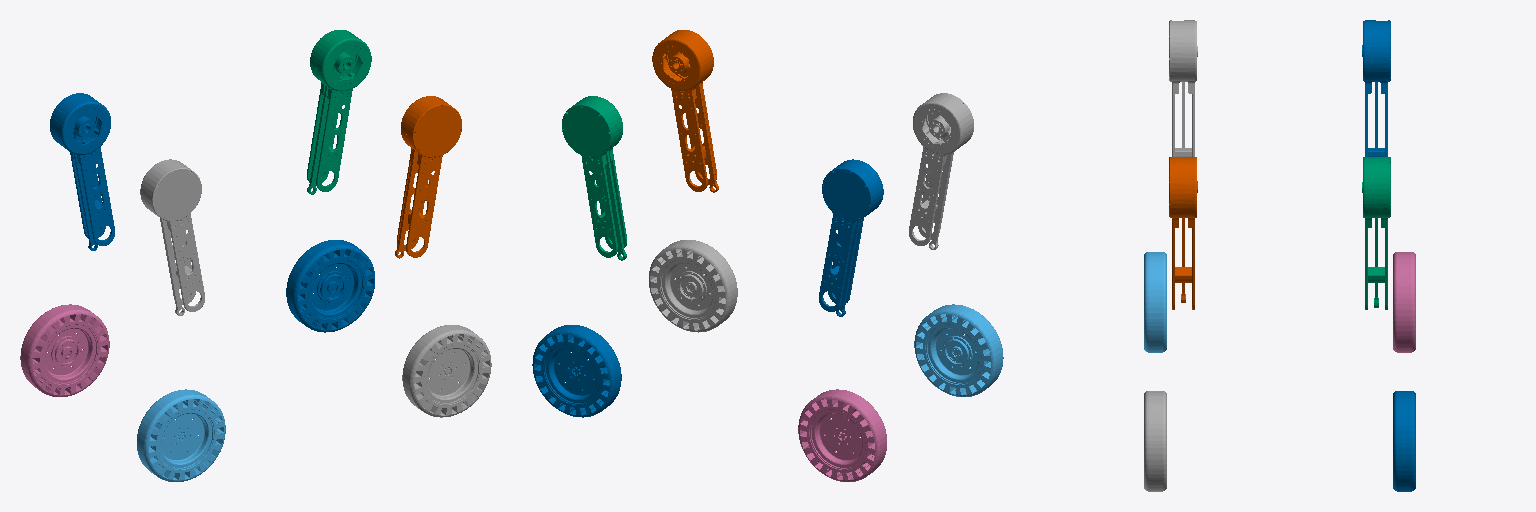
--- Render facts (derived) ---
3 views of the same robot in one strip: view 1: azimuth 30°, elevation 25°; view 2: azimuth 150°, elevation 25°; view 3: azimuth 270°, elevation 25° (orthographic).
Robot: bitter_description — 23 links, 22 joints (16 revolute, 6 fixed); root link base; default pose: all joints at 0.
Links seen in each view (by area): view 1: FR_foot, FL_foot, RL_foot, RR_foot, FL_thigh, FR_thigh, RL_thigh, RR_thigh; view 2: RL_foot, RR_foot, FL_foot, FR_foot, FL_thigh, FR_thigh, RL_thigh, RR_thigh; view 3: FL_thigh, FR_thigh, RL_thigh, RR_thigh, FR_foot, FL_foot, RR_foot, RL_foot.
Link boxes in pixels (box(x1,y1,x2,y2)): FR_foot: box(402, 325, 491, 417); FL_foot: box(286, 240, 374, 332); RL_foot: box(20, 304, 109, 396); RR_foot: box(137, 389, 225, 481); FL_thigh: box(307, 30, 371, 194); FR_thigh: box(395, 96, 461, 258); RL_thigh: box(50, 93, 114, 250); RR_thigh: box(140, 159, 204, 315); RL_foot: box(798, 389, 886, 481); RR_foot: box(914, 304, 1003, 396); FL_foot: box(532, 325, 621, 417); FR_foot: box(649, 240, 737, 332); FL_thigh: box(562, 96, 626, 260); FR_thigh: box(652, 30, 718, 192); RL_thigh: box(819, 159, 883, 316); RR_thigh: box(909, 93, 973, 249); FL_thigh: box(1362, 157, 1390, 309); FR_thigh: box(1169, 157, 1197, 309); RL_thigh: box(1362, 20, 1390, 156); RR_thigh: box(1169, 20, 1197, 156); FR_foot: box(1144, 391, 1166, 491); FL_foot: box(1393, 391, 1415, 491); RR_foot: box(1144, 252, 1166, 352); RL_foot: box(1393, 252, 1415, 352).
Bounding box of the posed robot: 0.9791 × 0.6191 × 0.8193 m (x, y, z).
8 mesh visuals loaded from 13 distinct referenced files (4 binary STL); not drawn: 9 (reference not matched to a file when rendering).

robot.urdf — bitter_description:
<?xml version="1.0" ?>
<!-- =================================================================================== -->
<!-- |       在赵任宇2025年0826的旋转轴改变的基础上， 田丰修改于2025.09.20，修改了小腿及轮的碰撞体改为stl的碰撞（借鉴b2w） -->
<!--          09-22，修改imu的joint parent“trunk” ，z=-0.02     | -->
<!-- =================================================================================== -->
<robot name="bitter_description">

  <!--在 Gazebo 中使用 ros_control 框架来控制机器人关节（如位置、速度、力矩控制等）-->
  <gazebo>
    <plugin filename="libgazebo_ros_control.so" name="gazebo_ros_control">
      <robotNamespace>/bitter_gazebo</robotNamespace>
      <robotSimType>gazebo_ros_control/DefaultRobotHWSim</robotSimType>
    </plugin>
  </gazebo>
  <!--通过 ROS 话题 /apply_force/trunk 向机器人的 trunk（躯干）施加外力（力和力矩）,暂时没用到-->
  <gazebo>
    <plugin filename="libgazebo_ros_force.so" name="gazebo_ros_force">
      <bodyName>trunk</bodyName>
      <topicName>/apply_force/trunk</topicName>
    </plugin>
  </gazebo>
  <!--为 imu_link 添加一个 IMU 传感器，并通过 ROS 发布 IMU 数据（角速度、线加速度、姿态等）-->
  <gazebo reference="imu_link">
    <gravity>true</gravity>
    <sensor name="imu_sensor" type="imu">
      <always_on>true</always_on>
      <update_rate>1000</update_rate>
      <visualize>true</visualize>
      <topic>__default_topic__</topic>
      <plugin filename="libgazebo_ros_imu_sensor.so" name="imu_plugin">
        <topicName>trunk_imu</topicName>
        <bodyName>imu_link</bodyName>
        <updateRateHZ>1000.0</updateRateHZ>
        <gaussianNoise>0.0</gaussianNoise>
        <xyzOffset>0 0 0</xyzOffset>
        <rpyOffset>0 0 0</rpyOffset>
        <frameName>imu_link</frameName>
      </plugin>
      <pose>0 0 0 0 0 0</pose>
    </sensor>
  </gazebo>
  <gazebo reference="base">
    <material>Gazebo/Green</material>
    <turnGravityOff>false</turnGravityOff>
  </gazebo>
  <gazebo reference="trunk">
    <mu1>0.2</mu1>
    <mu2>0.2</mu2>
    <kp value="1000000.0"/>
    <kd value="1.0"/>
  </gazebo>
  <gazebo reference="imu_link">
    <mu1>0.2</mu1>
    <mu2>0.2</mu2>
    <material>Gazebo/Red</material>
  </gazebo>
  <!-- FL leg -->
  <gazebo reference="FL_hip">
    <mu1>0.2</mu1>
    <mu2>0.2</mu2>
    <material>Gazebo/DarkGrey</material>
  </gazebo>
  <gazebo reference="FL_thigh">
    <mu1>0.2</mu1>
    <mu2>0.2</mu2>
    <self_collide>1</self_collide>
    <material>Gazebo/DarkGrey</material>
    <kp value="1000000.0"/>
    <kd value="1.0"/>
  </gazebo>
  <gazebo reference="FL_calf">
    <mu1>0.2</mu1>
    <mu2>0.2</mu2>
    <self_collide>1</self_collide>
  </gazebo>
  <gazebo reference="FL_foot">
    <mu1>0.6</mu1>
    <mu2>0.6</mu2>
    <self_collide>1</self_collide>
    <material>Gazebo/DarkGrey</material>
    <kp value="1000000.0"/>
    <kd value="1.0"/>
  </gazebo>
  <!-- FR leg -->
  <gazebo reference="FR_hip">
    <mu1>0.2</mu1>
    <mu2>0.2</mu2>
    <material>Gazebo/DarkGrey</material>
  </gazebo>
  <gazebo reference="FR_thigh">
    <mu1>0.2</mu1>
    <mu2>0.2</mu2>
    <self_collide>1</self_collide>
    <material>Gazebo/DarkGrey</material>
    <kp value="1000000.0"/>
    <kd value="1.0"/>
  </gazebo>
  <gazebo reference="FR_calf">
    <mu1>0.2</mu1>
    <mu2>0.2</mu2>
    <self_collide>1</self_collide>
  </gazebo>
  <gazebo reference="FR_foot">
    <mu1>0.6</mu1>
    <mu2>0.6</mu2>
    <self_collide>1</self_collide>
    <material>Gazebo/DarkGrey</material>
    <kp value="1000000.0"/>
    <kd value="1.0"/>
  </gazebo>
  <!-- RL leg -->
  <gazebo reference="RL_hip">
    <mu1>0.2</mu1>
    <mu2>0.2</mu2>
    <material>Gazebo/DarkGrey</material>
  </gazebo>
  <gazebo reference="RL_thigh">
    <mu1>0.2</mu1>
    <mu2>0.2</mu2>
    <self_collide>1</self_collide>
    <material>Gazebo/DarkGrey</material>
    <kp value="1000000.0"/>
    <kd value="1.0"/>
  </gazebo>
  <gazebo reference="RL_calf">
    <mu1>0.2</mu1>
    <mu2>0.2</mu2>
    <self_collide>1</self_collide>
  </gazebo>
  <gazebo reference="RL_foot">
    <mu1>0.6</mu1>
    <mu2>0.6</mu2>
    <self_collide>1</self_collide>
    <material>Gazebo/DarkGrey</material>
    <kp value="1000000.0"/>
    <kd value="1.0"/>
  </gazebo>
  <!-- RR leg -->
  <gazebo reference="RR_hip">
    <mu1>0.2</mu1>
    <mu2>0.2</mu2>
    <material>Gazebo/DarkGrey</material>
  </gazebo>
  <gazebo reference="RR_thigh">
    <mu1>0.2</mu1>
    <mu2>0.2</mu2>
    <self_collide>1</self_collide>
    <material>Gazebo/DarkGrey</material>
    <kp value="1000000.0"/>
    <kd value="1.0"/>
  </gazebo>
  <gazebo reference="RR_calf">
    <mu1>0.2</mu1>
    <mu2>0.2</mu2>
    <self_collide>1</self_collide>
  </gazebo>
  <gazebo reference="RR_foot">
    <mu1>0.6</mu1>
    <mu2>0.6</mu2>
    <self_collide>1</self_collide>
    <material>Gazebo/DarkGrey</material>
    <kp value="1000000.0"/>
    <kd value="1.0"/>
  </gazebo>

  <!--电机传动-->
  <transmission name="FR_hip_tran">
    <type>transmission_interface/SimpleTransmission</type>
    <joint name="FR_hip_joint">
      <hardwareInterface>hardware_interface/EffortJointInterface</hardwareInterface>
    </joint>
    <actuator name="FR_hip_motor">
      <hardwareInterface>hardware_interface/EffortJointInterface</hardwareInterface>
      <mechanicalReduction>1</mechanicalReduction>
    </actuator>
  </transmission>
  <transmission name="FR_thigh_tran">
    <type>transmission_interface/SimpleTransmission</type>
    <joint name="FR_thigh_joint">
      <hardwareInterface>hardware_interface/EffortJointInterface</hardwareInterface>
    </joint>
    <actuator name="FR_thigh_motor">
      <hardwareInterface>hardware_interface/EffortJointInterface</hardwareInterface>
      <mechanicalReduction>1</mechanicalReduction>
    </actuator>
  </transmission>
  <transmission name="FR_calf_tran">
    <type>transmission_interface/SimpleTransmission</type>
    <joint name="FR_calf_joint">
      <hardwareInterface>hardware_interface/EffortJointInterface</hardwareInterface>
    </joint>
    <actuator name="FR_calf_motor">
      <hardwareInterface>hardware_interface/EffortJointInterface</hardwareInterface>
      <mechanicalReduction>1</mechanicalReduction>
    </actuator>
  </transmission>
  <transmission name="FR_foot_tran">
    <type>transmission_interface/SimpleTransmission</type>
    <joint name="FR_foot_joint">
      <hardwareInterface>hardware_interface/EffortJointInterface</hardwareInterface>
    </joint>
    <actuator name="FR_foot_motor">
      <hardwareInterface>hardware_interface/EffortJointInterface</hardwareInterface>
      <mechanicalReduction>1</mechanicalReduction>
    </actuator>
  </transmission>

  <transmission name="FL_hip_tran">
    <type>transmission_interface/SimpleTransmission</type>
    <joint name="FL_hip_joint">
      <hardwareInterface>hardware_interface/EffortJointInterface</hardwareInterface>
    </joint>
    <actuator name="FL_hip_motor">
      <hardwareInterface>hardware_interface/EffortJointInterface</hardwareInterface>
      <mechanicalReduction>1</mechanicalReduction>
    </actuator>
  </transmission>
  <transmission name="FL_thigh_tran">
    <type>transmission_interface/SimpleTransmission</type>
    <joint name="FL_thigh_joint">
      <hardwareInterface>hardware_interface/EffortJointInterface</hardwareInterface>
    </joint>
    <actuator name="FL_thigh_motor">
      <hardwareInterface>hardware_interface/EffortJointInterface</hardwareInterface>
      <mechanicalReduction>1</mechanicalReduction>
    </actuator>
  </transmission>
  <transmission name="FL_calf_tran">
    <type>transmission_interface/SimpleTransmission</type>
    <joint name="FL_calf_joint">
      <hardwareInterface>hardware_interface/EffortJointInterface</hardwareInterface>
    </joint>
    <actuator name="FL_calf_motor">
      <hardwareInterface>hardware_interface/EffortJointInterface</hardwareInterface>
      <mechanicalReduction>1</mechanicalReduction>
    </actuator>
  </transmission>
  <transmission name="FL_foot_tran">
    <type>transmission_interface/SimpleTransmission</type>
    <joint name="FL_foot_joint">
      <hardwareInterface>hardware_interface/EffortJointInterface</hardwareInterface>
    </joint>
    <actuator name="FL_foot_motor">
      <hardwareInterface>hardware_interface/EffortJointInterface</hardwareInterface>
      <mechanicalReduction>1</mechanicalReduction>
    </actuator>
  </transmission>

  <transmission name="RR_hip_tran">
    <type>transmission_interface/SimpleTransmission</type>
    <joint name="RR_hip_joint">
      <hardwareInterface>hardware_interface/EffortJointInterface</hardwareInterface>
    </joint>
    <actuator name="RR_hip_motor">
      <hardwareInterface>hardware_interface/EffortJointInterface</hardwareInterface>
      <mechanicalReduction>1</mechanicalReduction>
    </actuator>
  </transmission>
  <transmission name="RR_thigh_tran">
    <type>transmission_interface/SimpleTransmission</type>
    <joint name="RR_thigh_joint">
      <hardwareInterface>hardware_interface/EffortJointInterface</hardwareInterface>
    </joint>
    <actuator name="RR_thigh_motor">
      <hardwareInterface>hardware_interface/EffortJointInterface</hardwareInterface>
      <mechanicalReduction>1</mechanicalReduction>
    </actuator>
  </transmission>
  <transmission name="RR_calf_tran">
    <type>transmission_interface/SimpleTransmission</type>
    <joint name="RR_calf_joint">
      <hardwareInterface>hardware_interface/EffortJointInterface</hardwareInterface>
    </joint>
    <actuator name="RR_calf_motor">
      <hardwareInterface>hardware_interface/EffortJointInterface</hardwareInterface>
      <mechanicalReduction>1</mechanicalReduction>
    </actuator>
  </transmission>
  <transmission name="RR_foot_tran">
    <type>transmission_interface/SimpleTransmission</type>
    <joint name="RR_foot_joint">
      <hardwareInterface>hardware_interface/EffortJointInterface</hardwareInterface>
    </joint>
    <actuator name="RR_foot_motor">
      <hardwareInterface>hardware_interface/EffortJointInterface</hardwareInterface>
      <mechanicalReduction>1</mechanicalReduction>
    </actuator>
  </transmission>
  
  <transmission name="RL_hip_tran">
    <type>transmission_interface/SimpleTransmission</type>
    <joint name="RL_hip_joint">
      <hardwareInterface>hardware_interface/EffortJointInterface</hardwareInterface>
    </joint>
    <actuator name="RL_hip_motor">
      <hardwareInterface>hardware_interface/EffortJointInterface</hardwareInterface>
      <mechanicalReduction>1</mechanicalReduction>
    </actuator>
  </transmission>
  <transmission name="RL_thigh_tran">
    <type>transmission_interface/SimpleTransmission</type>
    <joint name="RL_thigh_joint">
      <hardwareInterface>hardware_interface/EffortJointInterface</hardwareInterface>
    </joint>
    <actuator name="RL_thigh_motor">
      <hardwareInterface>hardware_interface/EffortJointInterface</hardwareInterface>
      <mechanicalReduction>1</mechanicalReduction>
    </actuator>
  </transmission>
  <transmission name="RL_calf_tran">
    <type>transmission_interface/SimpleTransmission</type>
    <joint name="RL_calf_joint">
      <hardwareInterface>hardware_interface/EffortJointInterface</hardwareInterface>
    </joint>
    <actuator name="RL_calf_motor">
      <hardwareInterface>hardware_interface/EffortJointInterface</hardwareInterface>
      <mechanicalReduction>1</mechanicalReduction>
    </actuator>
  </transmission>
  <transmission name="RL_foot_tran">
    <type>transmission_interface/SimpleTransmission</type>
    <joint name="RL_foot_joint">
      <hardwareInterface>hardware_interface/EffortJointInterface</hardwareInterface>
    </joint>
    <actuator name="RL_foot_motor">
      <hardwareInterface>hardware_interface/EffortJointInterface</hardwareInterface>
      <mechanicalReduction>1</mechanicalReduction>
    </actuator>
  </transmission>
  
  <link name="base">
    <visual>
      <origin rpy="0 0 0" xyz="0 0 0"/>
      <geometry>
        <box size="0.001 0.001 0.001"/>
      </geometry>
    </visual>
  </link>
  <joint name="floating_base" type="fixed">
    <origin rpy="0 0 0" xyz="0 0 0"/>
    <parent link="base"/>
    <child link="trunk"/>
  </joint>
  <!-- 躯干 -->
  <link name="trunk">
    <visual>
      <origin rpy="0 0 0" xyz="0 0 -0.075"/>
      <geometry>
        <mesh filename="package://bitter_description/meshes/Base.STL" scale="1 1 1"/>
      </geometry>
    </visual>
    <collision>
      <origin rpy="0 0 0" xyz="0 0 0.0"/>
      <geometry>
        <box size="0.63 0.31 0.15"/>
      </geometry>
    </collision>
    <!--7.2日: xyz="8.1667E-05 5.1958E-08 -8.1761E-05",这是原来的,我感觉下面这个新导出的狗坐标原点偏移有点多了
                    xyz="-0.015179 -0.00051187 0.07496" -->
    <inertial>
      <origin rpy="0 0 0" xyz="-0.015179 -0.00051187 -8.1761E-05"/>
      <mass value="20.4092"/>
      <inertia ixx="0.171426" ixy="0.001099" ixz="0.022801" iyy="0.704476" iyz="-0.000062" izz="0.761919"/>
    </inertial>
  </link>
  
  <!--imu-->
  <joint name="imu_joint" type="fixed">
    <parent link="trunk"/>
    <child link="imu_link"/>
    <origin rpy="0 0 0" xyz="0 0 -0.02"/>
  </joint>
  <link name="imu_link">
    <inertial>
      <mass value="0.001"/>
      <origin rpy="0 0 0" xyz="0 0 0"/>
      <inertia ixx="0.0001" ixy="0" ixz="0" iyy="0.0001" iyz="0" izz="0.0001"/>
    </inertial>
    <visual>
      <origin rpy="0 0 0" xyz="0 0 0"/>
      <geometry>
        <box size="0.001 0.001 0.001"/>
      </geometry>
    </visual>
    <collision>
      <origin rpy="0 0 0" xyz="0 0 0"/>
      <geometry>
        <box size=".001 .001 .001"/>
      </geometry>
    </collision>
  </link>
  <!--hip指髋关节-->
  <joint name="FR_hip_joint" type="revolute">
    <origin rpy="0 0 0" xyz="0.30195 -0.089394 0.009556"/>
    <parent link="base"/>
    <child link="FR_hip"/>
    <axis xyz="1 0 0"/>
    <!--导出的是-1，绕世界坐标系的-y轴转，因为urdf导出反的，注意-->
    <dynamics damping="0.0" friction="0.0"/>
    <limit effort="200" lower="-0.79" upper="0.79" velocity="11.99"/>
  </joint>
  <joint name="FR_hip_stator_fixed" type="fixed">
    <origin rpy="0 0 0" xyz="0.07 -0.015 0"/>
    <parent link="FR_hip"/>
    <child link="FR_hip_stator"/>
    <origin rpy="0 0 0" xyz="0 0 0"/>
  </joint>
  <link name="FR_hip">
    <visual>
      <origin rpy="0 0 0" xyz="0 0 0"/>
      <geometry>
        <mesh filename="package://bitter_description/meshes/FR_hip_link.STL" scale="1 1 1"/>
      </geometry>
    </visual>
    <collision>
      <origin rpy="1.5707963267948966 0 0" xyz="0.07 -0.13 0"/>
      <geometry>
        <cylinder length="0.055" radius="0.07"/>
      </geometry>
    </collision>
    <inertial>
      <origin rpy="0 0 0" xyz="0.061582 -0.016575 0.0023406"/>
      <mass value="3.8143"/>
      <inertia ixx="0.00126034" ixy="2.577e-05" ixz="-3.507e-05" iyy="0.00072589" iyz="-1.861e-05" izz="0.00136839"/>
    </inertial>
  </link>
  <link name="FR_hip_stator">
    <!--不需要视觉，只要碰撞，5.21加的,修改了碰撞体-->
    <collision>
      <origin rpy="1.5707963267948966 0 0" xyz="0.0 0 0"/>
      <geometry>
        <cylinder length="0.15" radius="0.05"/>
      </geometry>
    </collision>
  </link>
  <!--thigh指大腿-->
  <joint name="FR_thigh_joint" type="revolute">
    <origin rpy="0 0.17453292519943295 0" xyz="0.065 -0.1625 0"/>
    <parent link="FR_hip"/>
    <child link="FR_thigh"/>
    <axis xyz="0 1 0"/>
    <dynamics damping="0.0" friction="0.0"/>
    <limit effort="200" lower="-0.9" upper="1.0" velocity="11.99"/>
  </joint>
  <link name="FR_thigh">
    <visual>
      <origin rpy="0 0 0" xyz="0 0 0"/>
      <geometry>
        <!--右边-->
        <mesh filename="package://bitter_description/meshes/FR_thigh_link.STL" scale="1 1 1"/>
      </geometry>
    </visual>
    <collision>
      <!--将碰撞几何体的原点设置在大腿长度的中间位置,叉掉，看不懂自己之前写什么了-->
      <origin rpy="0 1.5707963267948966 0" xyz="0 0.04 -0.15000000000000002"/>
      <geometry>
        <box size="0.14 0.052 0.05"/>
      </geometry>
    </collision>
    <inertial>
      <origin rpy="0 0 0" xyz="-0.0017599 0.033877 -0.087245"/>
      <mass value="1.9052"/>
      <inertia ixx="0.00687419" ixy="-4.05e-06" ixz="-6.615e-05" iyy="0.0071642" iyz="-8.81e-05" izz="0.00074917"/>
    </inertial>
  </link>
  <!--calf指小腿-->
  <joint name="FR_calf_joint" type="revolute">
    <origin rpy="0 -0.3490658503988659 0" xyz="0 0.01885 -0.3"/>
    <parent link="FR_thigh"/>
    <child link="FR_calf"/>
    <axis xyz="0 1 0"/>
    <!--这个和导出的一样1,但是不满足逆时针为正，改为-1-->
    <dynamics damping="0.0" friction="0.0"/>
    <limit effort="200" lower="-2.0" upper="0.0" velocity="11.99"/>
  </joint>
  <link name="FR_calf">
    <visual>
      <origin rpy="0 0 0" xyz="0 0 0"/>
      <geometry>
        <!--右边-->
        <mesh filename="package://bitter_description/meshes/FR_calf_link.STL" scale="1 1 1"/>
      </geometry>
    </visual>
    <collision>
      <!-- <origin rpy="0 1.5707963267948966 0" xyz="0 0.0025 -0.15"/>
      <geometry>
        <box size="0.3 0.035 0.05"/>
      </geometry> -->
      <origin rpy="0 0 0" xyz="0 0 0"/>
      <geometry>
        <mesh filename="package://bitter_description/meshes/FR_calf_link.STL" scale="1 1 1"/>
      </geometry>
    </collision>
    <inertial>
      <origin rpy="0 0 0" xyz="0.0067148 0.0065919 -0.25451"/>
      <mass value="0.75"/>
      <inertia ixx="0.00722169" ixy="-2.209e-05" ixz="-0.00026683" iyy="0.00739374" iyz="-0.00029351" izz="0.00044439"/>
    </inertial>
  </link>
  <!--foot指轮胎-->
  <joint name="FR_foot_joint" type="revolute">
    <origin rpy="0 0 0" xyz="0 -0.051 -0.34408"/>
    <parent link="FR_calf"/>
    <child link="FR_foot"/>
    <axis xyz="0 1 0"/>
    <!---->
    <dynamics damping="0.0" friction="0.0"/>
    <limit effort="35" velocity="83.78" lower="-9999" upper="9999"/>
  </joint>
  <link name="FR_foot">
    <visual>
      <origin rpy="0 0 0" xyz="0 0 0"/>
      <geometry>
        <!--右边-->
        <mesh filename="package://bitter_description/meshes/FR_wheel_link.STL" scale="1 1 1"/>
      </geometry>
    </visual>
    <collision>
      <!-- <origin rpy="1.5707963267948966 0 0" xyz="0 -0.0 0"/>
      <geometry>
        <cylinder length="0.05" radius="0.115"/> -->
      <geometry>
        <mesh filename="package://bitter_description/meshes/FR_wheel_link.STL" scale="1 1 1"/>
      </geometry>
    </collision>
    <inertial>
      <origin rpy="0 0 0" xyz="-4.9166e-06 0.00074558 9.2139e-06"/>
      <mass value="3.0157"/>
      <inertia ixx="0.0046374" ixy="2.4127e-08" ixz="-4.0829e-06" iyy="0.0088894" iyz="4.25e-08" izz="0.0046429"/>
    </inertial>
  </link>
  <!--hip指髋关节-->
  <joint name="FL_hip_joint" type="revolute">
    <origin rpy="0 0 0" xyz="0.30195 0.089394 0.009556"/>
    <parent link="base"/>
    <child link="FL_hip"/>
    <axis xyz="1 0 0"/>
    <!--导出的是-1，绕世界坐标系的-y轴转，因为urdf导出反的，注意-->
    <dynamics damping="0.0" friction="0.0"/>
    <limit effort="200" lower="-0.79" upper="0.79" velocity="11.99"/>
  </joint>
  <joint name="FL_hip_stator_fixed" type="fixed">
    <origin rpy="0 0 0" xyz="0.07 0.015 0"/>
    <parent link="FL_hip"/>
    <child link="FL_hip_stator"/>
    <origin rpy="0 0 0" xyz="0 0 0"/>
  </joint>
  <link name="FL_hip">
    <visual>
      <origin rpy="0 0 0" xyz="0 0 0"/>
      <geometry>
        <mesh filename="package://bitter_description/meshes/FL_hip_link.STL" scale="1 1 1"/>
      </geometry>
    </visual>
    <collision>
      <origin rpy="1.5707963267948966 0 0" xyz="0.07 0.13 0"/>
      <geometry>
        <cylinder length="0.055" radius="0.07"/>
      </geometry>
    </collision>
    <inertial>
      <origin rpy="0 0 0" xyz="0.061582 0.016575 0.0023406"/>
      <mass value="3.8143"/>
      <inertia ixx="0.00126034" ixy="-2.577e-05" ixz="-3.507e-05" iyy="0.00072589" iyz="1.861e-05" izz="0.00136839"/>
    </inertial>
  </link>
  <link name="FL_hip_stator">
    <!--不需要视觉，只要碰撞，5.21加的-->
    <collision>
      <origin rpy="1.5707963267948966 0 0" xyz="0.0 0 0"/>
      <geometry>
        <cylinder length="0.15" radius="0.05"/>
      </geometry>
    </collision>
  </link>
  <!--thigh指大腿-->
  <joint name="FL_thigh_joint" type="revolute">
    <origin rpy="0 0.17453292519943295 0" xyz="0.065 0.1625 0"/>
    <parent link="FL_hip"/>
    <child link="FL_thigh"/>
    <axis xyz="0 1 0"/>
    <dynamics damping="0.0" friction="0.0"/>
    <limit effort="200" lower="-0.9" upper="1.0" velocity="11.99"/>
  </joint>
  <link name="FL_thigh">
    <visual>
      <origin rpy="0 0 0" xyz="0 0 0"/>
      <geometry>
        <!--左边-->
        <mesh filename="package://bitter_description/meshes/FL_thigh_link.STL" scale="1 1 1"/>
      </geometry>
    </visual>
    <collision>
      <!--将碰撞几何体的原点设置在大腿长度的中间位置,叉掉，看不懂自己之前写什么了-->
      <origin rpy="0 1.5707963267948966 0" xyz="0 -0.04 -0.15000000000000002"/>
      <geometry>
        <box size="0.14 0.052 0.05"/>
      </geometry>
    </collision>
    <inertial>
      <origin rpy="0 0 0" xyz="-0.0017599 -0.033877 -0.087245"/>
      <mass value="1.9052"/>
      <inertia ixx="0.00687419" ixy="4.05e-06" ixz="-6.615e-05" iyy="0.0071642" iyz="8.81e-05" izz="0.00074917"/>
    </inertial>
  </link>
  <!--calf指小腿-->
  <joint name="FL_calf_joint" type="revolute">
    <origin rpy="0 -0.3490658503988659 0" xyz="0 -0.01885 -0.3"/>
    <parent link="FL_thigh"/>
    <child link="FL_calf"/>
    <axis xyz="0 1 0"/>
    <!--这个和导出的一样1,但是不满足逆时针为正，改为-1-->
    <dynamics damping="0.0" friction="0.0"/>
    <limit effort="200" lower="-2.0" upper="0.0" velocity="11.99"/>
  </joint>
  <link name="FL_calf">
    <visual>
      <origin rpy="0 0 0" xyz="0 0 0"/>
      <geometry>
        <!--左前-->
        <mesh filename="package://bitter_description/meshes/FL_calf_link.STL" scale="1 1 1"/>
      </geometry>
    </visual>
    <collision>
      <!-- <origin rpy="0 1.5707963267948966 0" xyz="0 -0.0025 -0.15"/>
      <geometry>
        <box size="0.3 0.035 0.05"/>
      </geometry> -->
      <origin rpy="0 0 0" xyz="0 0 0"/>
      <geometry>
        <mesh filename="package://bitter_description/meshes/FL_calf_link.STL" scale="1 1 1"/>
      </geometry>
    </collision>
    <inertial>
      <origin rpy="0 0 0" xyz="0.0067148 -0.0065919 -0.25451"/>
      <mass value="0.75"/>
      <inertia ixx="0.00722169" ixy="2.209e-05" ixz="-0.00026683" iyy="0.00739374" iyz="0.00029351" izz="0.00044439"/>
    </inertial>
  </link>
  <!--foot指轮胎-->
  <joint name="FL_foot_joint" type="revolute">
    <origin rpy="0 0 0" xyz="0 0.051 -0.34408"/>
    <parent link="FL_calf"/>
    <child link="FL_foot"/>
    <axis xyz="0 1 0"/>
    <!---->
    <dynamics damping="0.0" friction="0.0"/>
    <limit effort="35" velocity="83.78" lower="-9999" upper="9999"/>
  </joint>
  <link name="FL_foot">
    <visual>
      <origin rpy="0 0 0" xyz="0 0 0"/>
      <geometry>
        <!--左边-->
        <mesh filename="package://bitter_description/meshes/FL_wheel_link.STL" scale="1 1 1"/>
      </geometry>
    </visual>
    <collision>
      <!-- <origin rpy="1.5707963267948966 0 0" xyz="0 0.0 0"/>
      <geometry>
        <cylinder length="0.05" radius="0.115"/>
      </geometry> -->
      <origin rpy="0 0 0" xyz="0 0.0 0"/>
      <geometry>
        <mesh filename="package://bitter_description/meshes/FL_wheel_link.STL" scale="1 1 1"/>
      </geometry>
    </collision>
    <inertial>
      <origin rpy="0 0 0" xyz="-4.9166e-06 -0.00074558 9.2139e-06"/>
      <mass value="3.0157"/>
      <inertia ixx="0.0046374" ixy="-2.4127e-08" ixz="-4.0829e-06" iyy="0.0088894" iyz="-4.25e-08" izz="0.0046429"/>
    </inertial>
  </link>
  <!--hip指髋关节-->
  <joint name="RR_hip_joint" type="revolute">
    <origin rpy="0 0 0" xyz="-0.30195 -0.089394 0.009556"/>
    <parent link="base"/>
    <child link="RR_hip"/>
    <axis xyz="1 0 0"/>
    <!--导出的是-1，绕世界坐标系的-y轴转，因为urdf导出反的，注意-->
    <dynamics damping="0.0" friction="0.0"/>
    <limit effort="200" lower="-0.79" upper="0.79" velocity="11.99"/>
  </joint>
  <joint name="RR_hip_stator_fixed" type="fixed">
    <origin rpy="0 0 0" xyz="-0.07 -0.015 0"/>
    <parent link="RR_hip"/>
    <child link="RR_hip_stator"/>
    <origin rpy="0 0 0" xyz="0 0 0"/>
  </joint>
  <link name="RR_hip">
    <visual>
      <origin rpy="0 0 0" xyz="0 0 0"/>
      <geometry>
        <mesh filename="package://bitter_description/meshes/RR_hip_link.STL" scale="1 1 1"/>
      </geometry>
    </visual>
    <collision>
      <origin rpy="1.5707963267948966 0 0" xyz="-0.07 -0.13 0"/>
      <geometry>
        <cylinder length="0.055" radius="0.07"/>
      </geometry>
    </collision>
    <inertial>
      <origin rpy="0 0 0" xyz="-0.061582 -0.016575 0.0023406"/>
      <mass value="3.8143"/>
      <inertia ixx="0.00126034" ixy="-2.577e-05" ixz="3.507e-05" iyy="0.00072589" iyz="-1.861e-05" izz="0.00136839"/>
    </inertial>
  </link>
  <link name="RR_hip_stator">
    <!--不需要视觉，只要碰撞，5.21加的-->
    <collision>
      <origin rpy="1.5707963267948966 0 0" xyz="-0.0 0 0"/>
      <geometry>
        <cylinder length="0.15" radius="0.05"/>
      </geometry>
    </collision>
  </link>
  <!--thigh指大腿-->
  <joint name="RR_thigh_joint" type="revolute">
    <origin rpy="0 -0.17453292519943295 0" xyz="-0.065 -0.1625 0"/>
    <parent link="RR_hip"/>
    <child link="RR_thigh"/>
    <axis xyz="0 1 0"/>
    <dynamics damping="0.0" friction="0.0"/>
    <limit effort="200" lower="-1.0" upper="0.9" velocity="11.99"/>
  </joint>
  <link name="RR_thigh">
    <visual>
      <origin rpy="0 0 0" xyz="0 0 0"/>
      <geometry>
        <!--右边-->
        <mesh filename="package://bitter_description/meshes/FR_thigh_link.STL" scale="1 1 1"/>
      </geometry>
    </visual>
    <collision>
      <!--将碰撞几何体的原点设置在大腿长度的中间位置,叉掉，看不懂自己之前写什么了-->
      <origin rpy="0 1.5707963267948966 0" xyz="0 0.04 -0.15000000000000002"/>
      <geometry>
        <box size="0.14 0.052 0.05"/>
      </geometry>
    </collision>
    <inertial>
      <origin rpy="0 0 0" xyz="-0.0017599 0.033877 -0.087245"/>
      <mass value="1.9052"/>
      <inertia ixx="0.00687419" ixy="-4.05e-06" ixz="-6.615e-05" iyy="0.0071642" iyz="-8.81e-05" izz="0.00074917"/>
    </inertial>
  </link>
  <!--calf指小腿-->
  <joint name="RR_calf_joint" type="revolute">
    <origin rpy="0 0.3490658503988659 0" xyz="0 0.01885 -0.3"/>
    <parent link="RR_thigh"/>
    <child link="RR_calf"/>
    <axis xyz="0 1 0"/>
    <!--这个和导出的一样1,但是不满足逆时针为正，改为-1-->
    <dynamics damping="0.0" friction="0.0"/>
    <limit effort="200" lower="0.0" upper="2.0" velocity="11.99"/>
  </joint>
  <link name="RR_calf">
    <visual>
      <origin rpy="0 0 0" xyz="0 0 0"/>
      <geometry>
        <mesh filename="package://bitter_description/meshes/RR_calf_link.STL" scale="1 1 1"/>
      </geometry>
    </visual>
    <collision>
      <!-- <origin rpy="0 1.5707963267948966 0" xyz="0 0.0025 -0.15"/>
      <geometry>
        <box size="0.3 0.035 0.05"/>
      </geometry> -->
      <origin rpy="0 0 0" xyz="0 0 0"/>
      <geometry>
        <mesh filename="package://bitter_description/meshes/RR_calf_link.STL" scale="1 1 1"/>
      </geometry>
    </collision>
    <inertial>
      <origin rpy="0 0 0" xyz="0.0067148 0.0065919 -0.25451"/>
      <mass value="0.75"/>
      <inertia ixx="0.00722169" ixy="-2.209e-05" ixz="-0.00026683" iyy="0.00739374" iyz="-0.00029351" izz="0.00044439"/>
    </inertial>
  </link>
  <!--foot指轮胎-->
  <joint name="RR_foot_joint" type="revolute">
    <origin rpy="0 0 0" xyz="0 -0.051 -0.34408"/>
    <parent link="RR_calf"/>
    <child link="RR_foot"/>
    <axis xyz="0 1 0"/>
    <!---->
    <dynamics damping="0.0" friction="0.0"/>
    <limit effort="35" velocity="83.78" lower="-9999" upper="9999"/>
  </joint>
  <link name="RR_foot">
    <visual>
      <origin rpy="0 0 0" xyz="0 0 0"/>
      <geometry>
        <!--右边-->
        <mesh filename="package://bitter_description/meshes/FR_wheel_link.STL" scale="1 1 1"/>
      </geometry>
    </visual>
    <collision>
      <!-- <origin rpy="1.5707963267948966 0 0" xyz="0 -0.0 0"/>
      <geometry>
        <cylinder length="0.05" radius="0.115"/>
      </geometry> -->
      <origin rpy="0 0 0" xyz="0 0.0 0"/>
      <geometry>
        <mesh filename="package://bitter_description/meshes/FR_wheel_link.STL" scale="1 1 1"/>
      </geometry>
    </collision>
    <inertial>
      <origin rpy="0 0 0" xyz="-4.9166e-06 0.00074558 9.2139e-06"/>
      <mass value="3.0157"/>
      <inertia ixx="0.0046374" ixy="2.4127e-08" ixz="-4.0829e-06" iyy="0.0088894" iyz="4.25e-08" izz="0.0046429"/>
    </inertial>
  </link>
  <!--hip指髋关节-->
  <joint name="RL_hip_joint" type="revolute">
    <origin rpy="0 0 0" xyz="-0.30195 0.089394 0.009556"/>
    <parent link="base"/>
    <child link="RL_hip"/>
    <axis xyz="1 0 0"/>
    <!--导出的是-1，绕世界坐标系的-y轴转，因为urdf导出反的，注意-->
    <dynamics damping="0.0" friction="0.0"/>
    <limit effort="200" lower="-0.79" upper="0.79" velocity="11.99"/>
  </joint>
  <joint name="RL_hip_stator_fixed" type="fixed">
    <origin rpy="0 0 0" xyz="-0.07 0.015 0"/>
    <parent link="RL_hip"/>
    <child link="RL_hip_stator"/>
    <origin rpy="0 0 0" xyz="0 0 0"/>
  </joint>
  <link name="RL_hip">
    <visual>
      <origin rpy="0 0 0" xyz="0 0 0"/>
      <geometry>
        <mesh filename="package://bitter_description/meshes/RL_hip_link.STL" scale="1 1 1"/>
      </geometry>
    </visual>
    <collision>
      <origin rpy="1.5707963267948966 0 0" xyz="-0.07 0.13 0"/>
      <geometry>
        <cylinder length="0.055" radius="0.07"/>
      </geometry>
    </collision>
    <inertial>
      <origin rpy="0 0 0" xyz="-0.061582 0.016575 0.0023406"/>
      <mass value="3.8143"/>
      <inertia ixx="0.00126034" ixy="2.577e-05" ixz="3.507e-05" iyy="0.00072589" iyz="1.861e-05" izz="0.00136839"/>
    </inertial>
  </link>
  <link name="RL_hip_stator">
    <!--不需要视觉，只要碰撞，5.21加的-->
    <collision>
      <origin rpy="1.5707963267948966 0 0" xyz="-0.0 0 0"/>
      <geometry>
        <cylinder length="0.15" radius="0.05"/>
      </geometry>
    </collision>
  </link>
  <!--thigh指大腿-->
  <joint name="RL_thigh_joint" type="revolute">
    <origin rpy="0 -0.17453292519943295 0" xyz="-0.065 0.1625 0"/>
    <parent link="RL_hip"/>
    <child link="RL_thigh"/>
    <axis xyz="0 1 0"/>
    <dynamics damping="0.0" friction="0.0"/>
    <limit effort="200" lower="-1.0" upper="0.9" velocity="11.99"/>
  </joint>
  <link name="RL_thigh">
    <visual>
      <origin rpy="0 0 0" xyz="0 0 0"/>
      <geometry>
        <!--左边-->
        <mesh filename="package://bitter_description/meshes/FL_thigh_link.STL" scale="1 1 1"/>
      </geometry>
    </visual>
    <collision>
      <!--将碰撞几何体的原点设置在大腿长度的中间位置,叉掉，看不懂自己之前写什么了-->
      <origin rpy="0 1.5707963267948966 0" xyz="0 -0.04 -0.15000000000000002"/>
      <geometry>
        <box size="0.14 0.052 0.05"/>
      </geometry>
    </collision>
    <inertial>
      <origin rpy="0 0 0" xyz="-0.0017599 -0.033877 -0.087245"/>
      <mass value="1.9052"/>
      <inertia ixx="0.00687419" ixy="4.05e-06" ixz="-6.615e-05" iyy="0.0071642" iyz="8.81e-05" izz="0.00074917"/>
    </inertial>
  </link>
  <!--calf指小腿-->
  <joint name="RL_calf_joint" type="revolute">
    <origin rpy="0 0.3490658503988659 0" xyz="0 -0.01885 -0.3"/>
    <parent link="RL_thigh"/>
    <child link="RL_calf"/>
    <axis xyz="0 1 0"/>
    <!--这个和导出的一样1,但是不满足逆时针为正，改为-1-->
    <dynamics damping="0.0" friction="0.0"/>
    <limit effort="200" lower="0.0" upper="2.0" velocity="11.99"/>
  </joint>
  <link name="RL_calf">
    <visual>
      <origin rpy="0 0 0" xyz="0 0 0"/>
      <geometry>
        <!--左后-->
        <mesh filename="package://bitter_description/meshes/RL_calf_link.STL" scale="1 1 1"/>
      </geometry>
    </visual>
    <collision>
      <!-- <origin rpy="0 1.5707963267948966 0" xyz="0 -0.0025 -0.15"/>
      <geometry>
        <box size="0.3 0.035 0.05"/>
      </geometry> -->
      <origin rpy="0 0 0" xyz="0 0 0"/>
      <geometry>
        <mesh filename="package://bitter_description/meshes/RL_calf_link.STL" scale="1 1 1"/>
      </geometry>
    </collision>
    <inertial>
      <origin rpy="0 0 0" xyz="0.0067148 -0.0065919 -0.25451"/>
      <mass value="0.75"/>
      <inertia ixx="0.00722169" ixy="2.209e-05" ixz="-0.00026683" iyy="0.00739374" iyz="0.00029351" izz="0.00044439"/>
    </inertial>
  </link>
  <!--foot指轮胎-->
  <joint name="RL_foot_joint" type="revolute">
    <origin rpy="0 0 0" xyz="0 0.051 -0.34408"/>
    <parent link="RL_calf"/>
    <child link="RL_foot"/>
    <axis xyz="0 1 0"/>
    <!---->
    <dynamics damping="0.0" friction="0.0"/>
    <limit effort="35" velocity="83.78" lower="-9999" upper="9999"/>
  </joint>
  <link name="RL_foot">
    <visual>
      <origin rpy="0 0 0" xyz="0 0 0"/>
      <geometry>
        <!--左边-->
        <mesh filename="package://bitter_description/meshes/FL_wheel_link.STL" scale="1 1 1"/>
      </geometry>
    </visual>
    <collision>
      <!-- <origin rpy="1.5707963267948966 0 0" xyz="0 0.0 0"/>
      <geometry>
        <cylinder length="0.05" radius="0.115"/>
      </geometry> -->
      <origin rpy="0 0 0" xyz="0 0.0 0"/>
      <geometry>
        <mesh filename="package://bitter_description/meshes/FL_wheel_link.STL" scale="1 1 1"/>
      </geometry>
    </collision>
    <inertial>
      <origin rpy="0 0 0" xyz="-4.9166e-06 -0.00074558 9.2139e-06"/>
      <mass value="3.0157"/>
      <inertia ixx="0.0046374" ixy="-2.4127e-08" ixz="-4.0829e-06" iyy="0.0088894" iyz="-4.25e-08" izz="0.0046429"/>
    </inertial>
  </link>
</robot>
